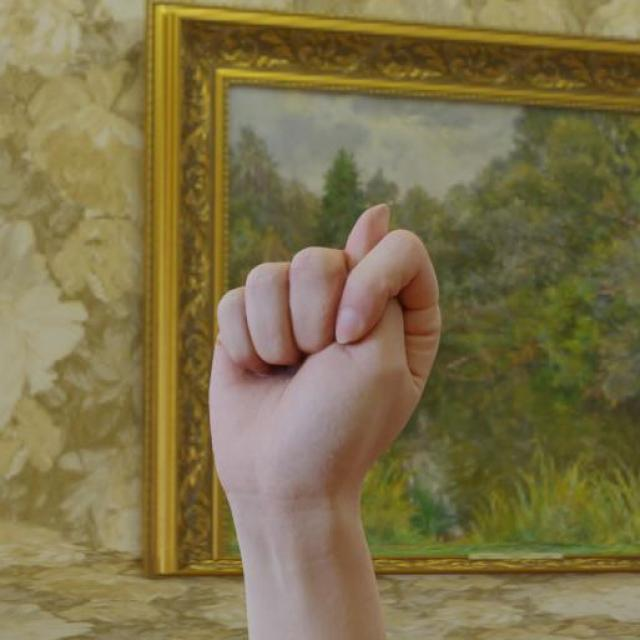T: (202, 201, 443, 509)
